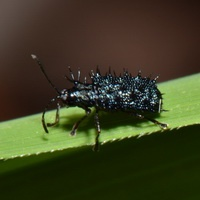insect: (31, 54, 167, 150)
